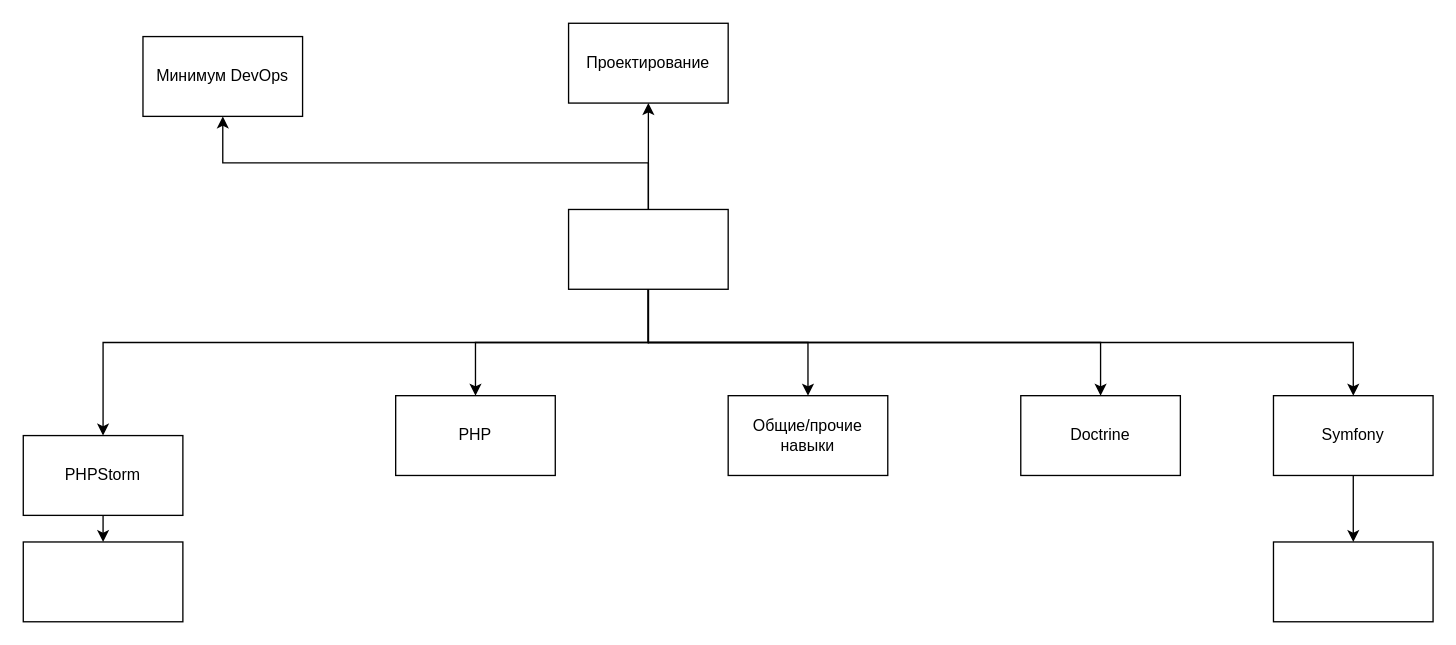
Image size: 1456x645. Some labels were removed from this diagram. Here are the shapes that lost their labels. From the top down, the centre of each, then its label:
At point 647,248: "Root".
At point 102,581: "Встроенный HTTP клиент".
At point 1352,581: "Monolog".
